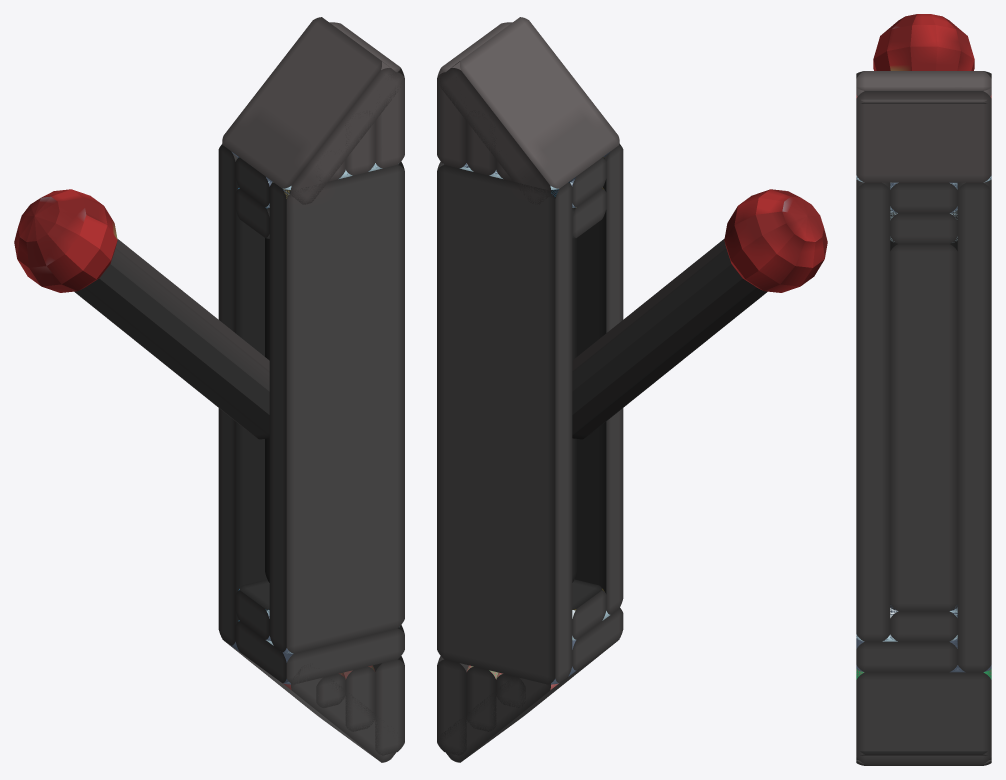
File: Lever.fbx
3 views of the same model, side by side, from view 1: azimuth 30°, elevation 25°; view 2: azimuth 150°, elevation 25°; view 3: azimuth 270°, elevation 25° (orthographic).
Visible parts, largest first — view 1: cube_3, cube_7, cube, cylinder, sphere, cube_1, cube_14, cube_8, cube_11, cube_12, cube_2, cube_6 (+4 smaller); view 2: cube, cube_7, cylinder, cube_3, sphere, cube_14, cube_11, cube_8, cube_12, cube_1, cube_2, cube_9 (+4 smaller); view 3: cube_6, cube, cube_3, cube_8, cube_11, sphere, cube_1, cube_7, cube_5, cube_4, cube_2, cube_14.
Part boxes in pixels (<box>): cube_3: <box>269,161,404,653</box>; cube_7: <box>222,17,402,204</box>; cube: <box>218,143,268,645</box>; cylinder: <box>74,238,269,439</box>; sphere: <box>14,189,117,292</box>; cube_1: <box>235,610,404,684</box>; cube_14: <box>222,639,400,762</box>; cube_8: <box>329,22,404,168</box>; cube_11: <box>343,656,404,755</box>; cube_12: <box>339,666,375,731</box>; cube_2: <box>235,579,271,640</box>; cube_6: <box>265,238,269,582</box>; cube: <box>437,161,572,684</box>; cube_7: <box>439,17,619,204</box>; cylinder: <box>572,238,767,439</box>; cube_3: <box>573,143,623,614</box>; sphere: <box>724,189,827,292</box>; cube_14: <box>439,639,619,762</box>; cube_11: <box>437,656,497,755</box>; cube_8: <box>437,22,512,168</box>; cube_12: <box>466,666,502,731</box>; cube_1: <box>572,608,623,670</box>; cube_2: <box>572,579,606,639</box>; cube_9: <box>466,111,497,175</box>; cube_6: <box>890,211,957,611</box>; cube: <box>957,176,991,672</box>; cube_3: <box>856,175,890,641</box>; cube_8: <box>856,87,991,182</box>; cube_11: <box>856,665,991,764</box>; sphere: <box>873,14,974,70</box>; cube_1: <box>856,608,957,672</box>; cube_7: <box>856,71,991,103</box>; cube_5: <box>890,182,957,243</box>; cube_4: <box>890,182,957,213</box>; cube_2: <box>890,604,957,641</box>; cube_14: <box>856,751,991,765</box>.
Size of the model in its own units: 73.99 by 142 by 25.
Materials: 1 (1 with a texture image).
